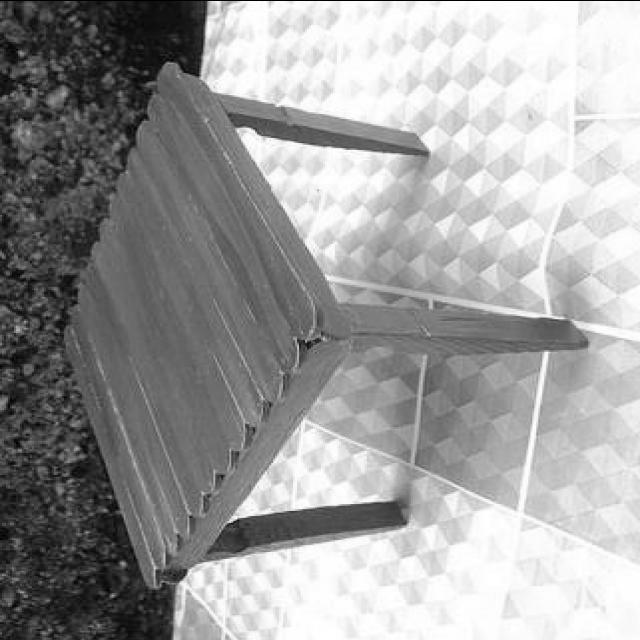table: (61, 61, 589, 590)
